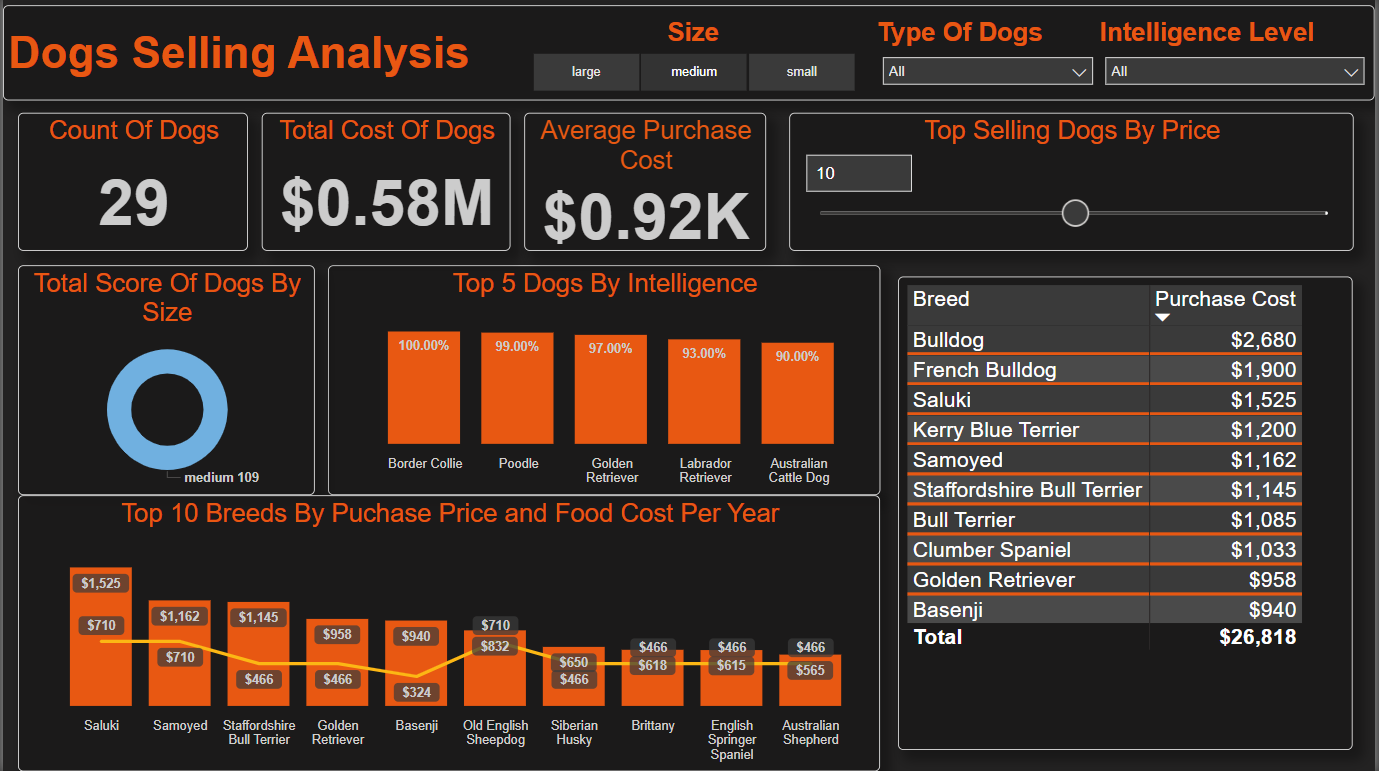

The dashboard page shown, as its layout file describes it:
{"tool":"powerbi","page":{"name":"Analysis","canvas":[1280,720],"ordinal":0},"visuals":[{"type":"textbox","box":[0,6.4,1279.5,89],"z":0},{"type":"slicer","title":"Type Of Dogs","fields":{"Values":["dogs-ranking-dataset.type"]},"box":[809.8,17.5,216.2,74.7],"z":1000},{"type":"slicer","title":"Size","fields":{"Values":["dogs-ranking-dataset.size_1"]},"box":[468.9,17.5,349.7,74.7],"z":2000},{"type":"slicer","title":"Intelligence Level","fields":{"Values":["dogs-ranking-dataset.intelligence"]},"box":[1017.2,17.5,262.2,77.9],"z":3000},{"type":"clusteredColumnChart","title":"Top 5 Dogs By Intelligence","fields":{"Y":["Sum(dogs-ranking-dataset.INTELLIGENCE %)"],"Category":["dogs-ranking-dataset.Breed"]},"box":[303.6,247.9,515,214.6],"z":4000},{"type":"tableEx","fields":{"Values":["dogs-ranking-dataset.Breed","dogs-ranking-dataset.TopN dogs"]},"box":[834.4,259.1,424.4,441.9],"z":5000},{"type":"card","title":"Count Of Dogs","fields":{"Values":["dogs-ranking-dataset.Total count"]},"box":[14.3,106.5,214.6,128.7],"z":6000},{"type":"card","title":"Total Cost Of Dogs","fields":{"Values":["Sum(dogs-ranking-dataset.$LIFETIME COST)"]},"box":[241.6,106.5,232.1,128.7],"z":7000},{"type":"donutChart","title":"Total Score Of Dogs By Size","fields":{"Y":["Sum(dogs-ranking-dataset.score for kids)"],"Category":["dogs-ranking-dataset.size_1"]},"box":[14.3,247.9,276.6,214.6],"z":8000},{"type":"slicer","title":"Top Selling Dogs By Price","fields":{"Values":["Top Dogs on Price.Top Dogs on Price"]},"box":[732.7,106.5,526.1,128.7],"z":9000},{"type":"card","title":"Average Purchase Cost","fields":{"Values":["Avg(dogs-ranking-dataset.PURCHASE PRICE)"]},"box":[486.4,106.5,225.7,128.7],"z":10000},{"type":"textbox","title":"Dogs Selling Analysis","box":[0,25.4,511.8,52.5],"z":11000},{"type":"lineClusteredColumnComboChart","title":"Top 10 Breeds By Puchase Price and Food Cost Per Year","fields":{"Category":["dogs-ranking-dataset.Breed"],"Y2":["Sum(dogs-ranking-dataset.FOOD COSTS PER YEAR)"],"Y":["Sum(dogs-ranking-dataset.PURCHASE PRICE)"]},"box":[14.3,462.5,804.2,257.5],"z":12000}]}

Visuals, with their boxes in screenshot pixels (x1, y1, x2, y2), scaled from the page's 1280x720 canvas onto the 1379x771 screenshot:
textbox: <box>0,7,1378,102</box>
"Type Of Dogs" slicer: <box>872,19,1105,99</box>
"Size" slicer: <box>505,19,882,99</box>
"Intelligence Level" slicer: <box>1096,19,1378,102</box>
"Top 5 Dogs By Intelligence" clusteredColumnChart: <box>327,265,882,495</box>
tableEx - dogs-ranking-dataset.Breed x dogs-ranking-dataset.TopN dogs: <box>899,277,1356,751</box>
"Count Of Dogs" card: <box>15,114,247,252</box>
"Total Cost Of Dogs" card: <box>260,114,510,252</box>
"Total Score Of Dogs By Size" donutChart: <box>15,265,313,495</box>
"Top Selling Dogs By Price" slicer: <box>789,114,1356,252</box>
"Average Purchase Cost" card: <box>524,114,767,252</box>
"Dogs Selling Analysis" textbox: <box>0,27,551,83</box>
"Top 10 Breeds By Puchase Price and Food Cost Per Year" lineClusteredColumnComboChart: <box>15,495,882,770</box>
